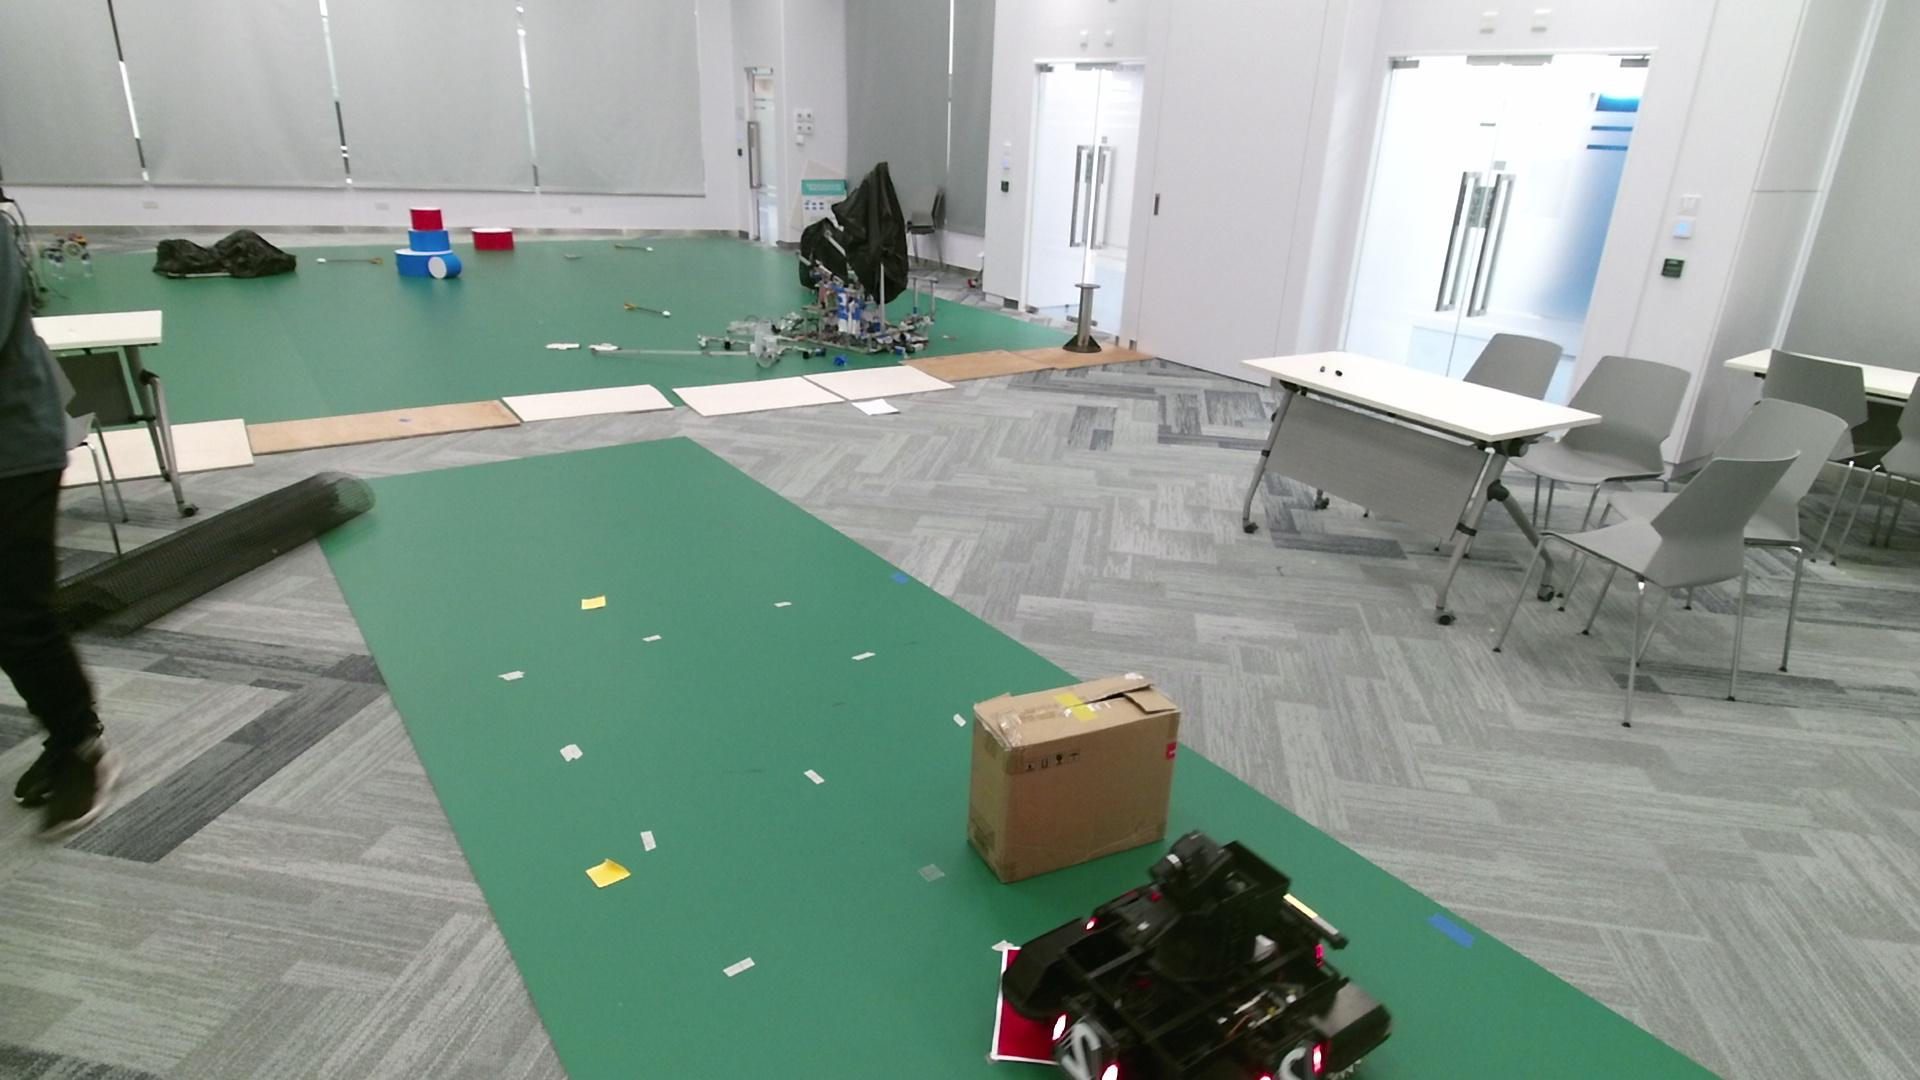robot: (1000, 828, 1393, 1080)
